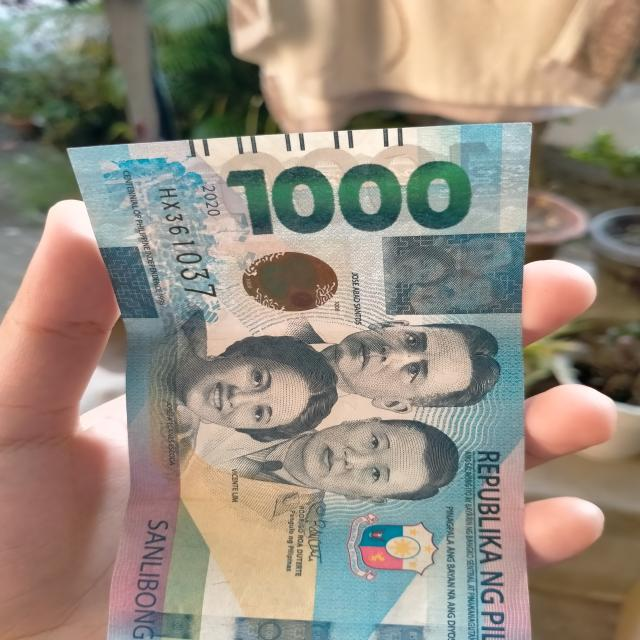concealed_value: (385, 233, 524, 314)
optically_variable_device: (220, 238, 354, 321)
serial_number: (152, 179, 222, 301)
value: (224, 162, 474, 238)
